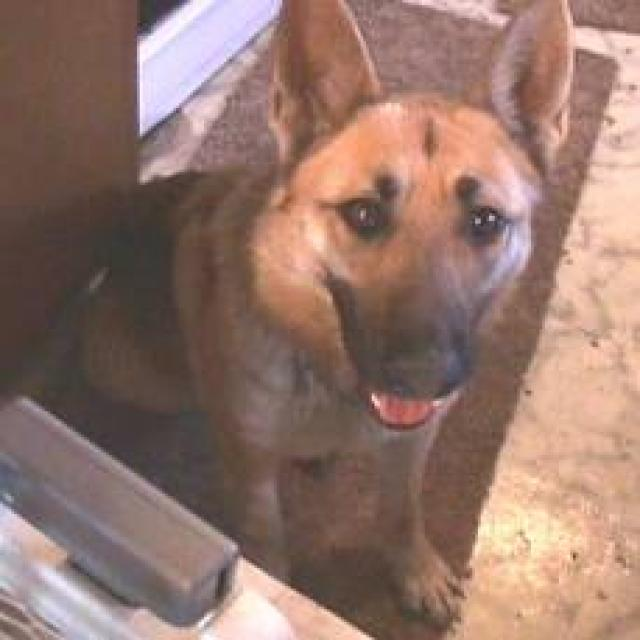dog: (0, 0, 575, 637)
